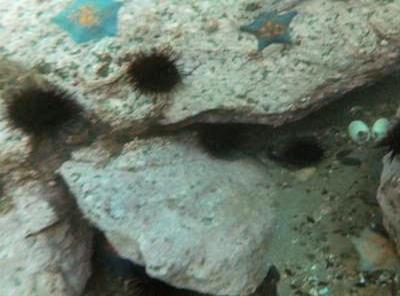urchin: (3, 85, 80, 134), (126, 50, 185, 95), (195, 120, 246, 158), (280, 140, 325, 167)
